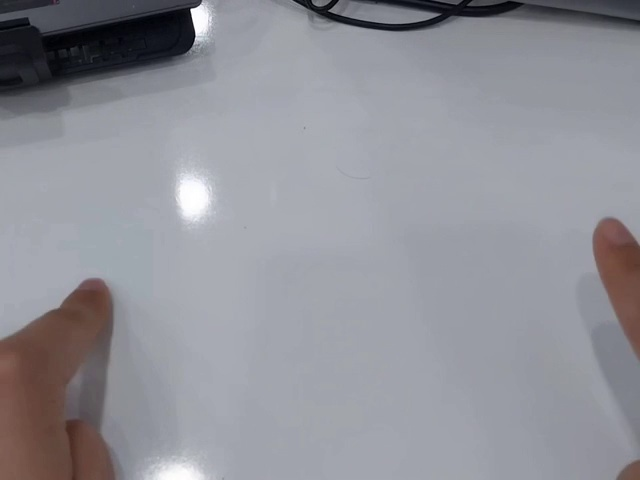fingers: (591, 216, 640, 277), (61, 276, 115, 327)
